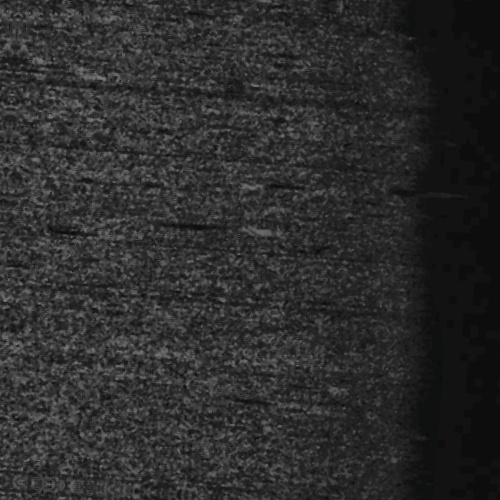object: (211, 223, 284, 230)
shadow: (139, 223, 247, 230)
